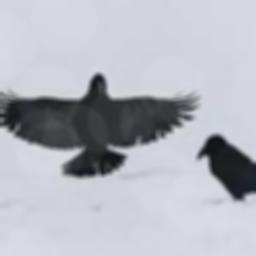Crow: (0, 72, 199, 177), (196, 133, 256, 200)
